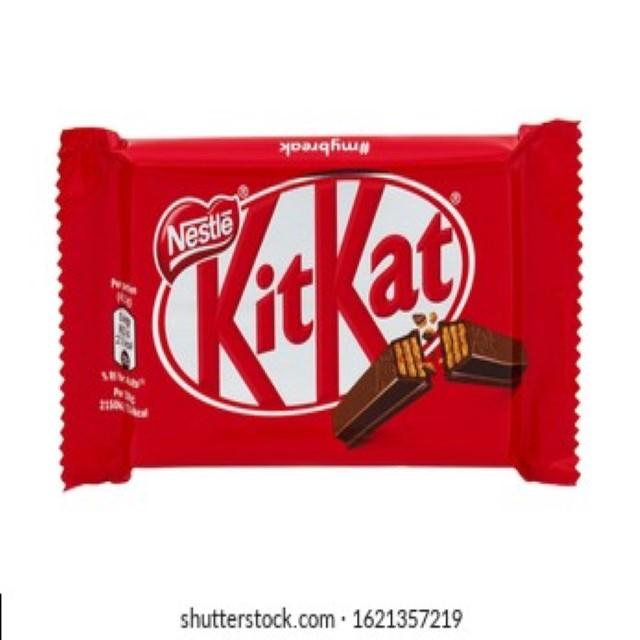kitkat_chocolate: (69, 145, 564, 440)
